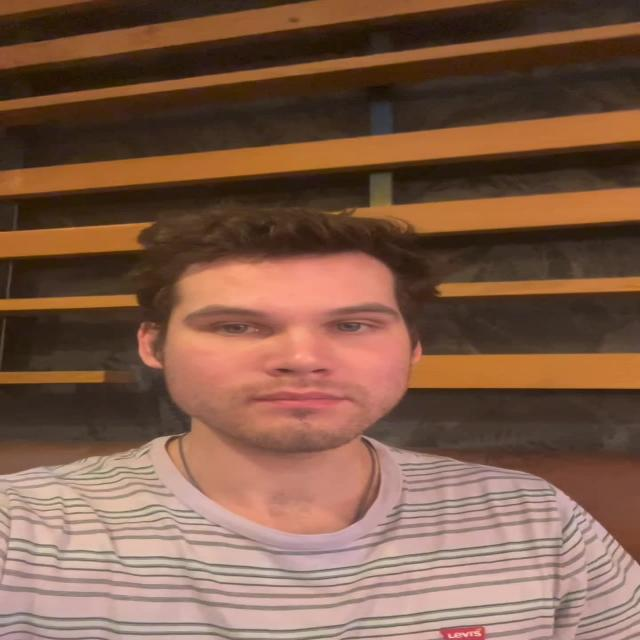earlobe: (136, 320, 166, 369), (410, 328, 424, 366)
